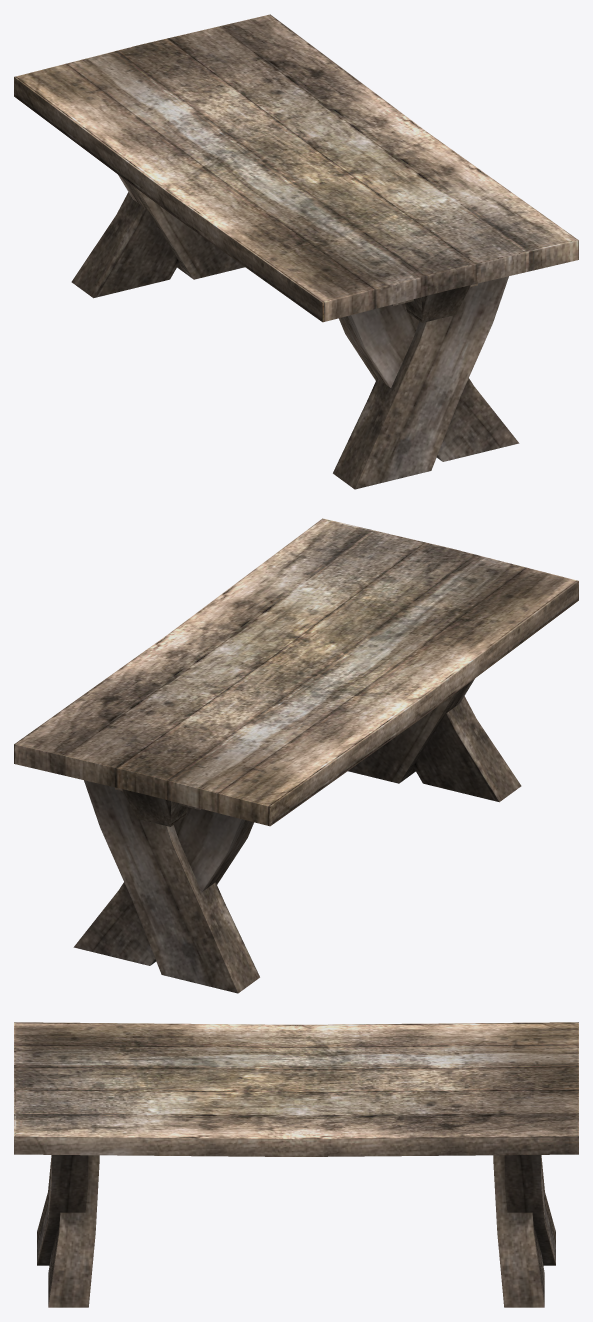
Rendered from table.fbx.
The picture shows the model from 3 angles, top to bottom: view 1: azimuth 30°, elevation 25°; view 2: azimuth 150°, elevation 25°; view 3: azimuth 270°, elevation 25°; orthographic projection. The views are drawn at different scales.
Parts seen in each view (by area): view 1: table; view 2: table; view 3: table.
Part boxes in pixels (<box>): table: <box>14,14,578,489</box>; table: <box>14,518,578,993</box>; table: <box>14,1022,578,1307</box>.
Size of the model in its own units: 51.36 by 107 by 39.87.
